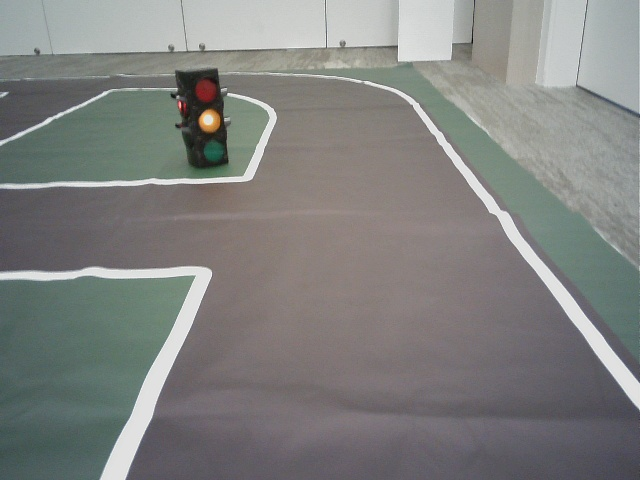yellow: (186, 74, 224, 159)
